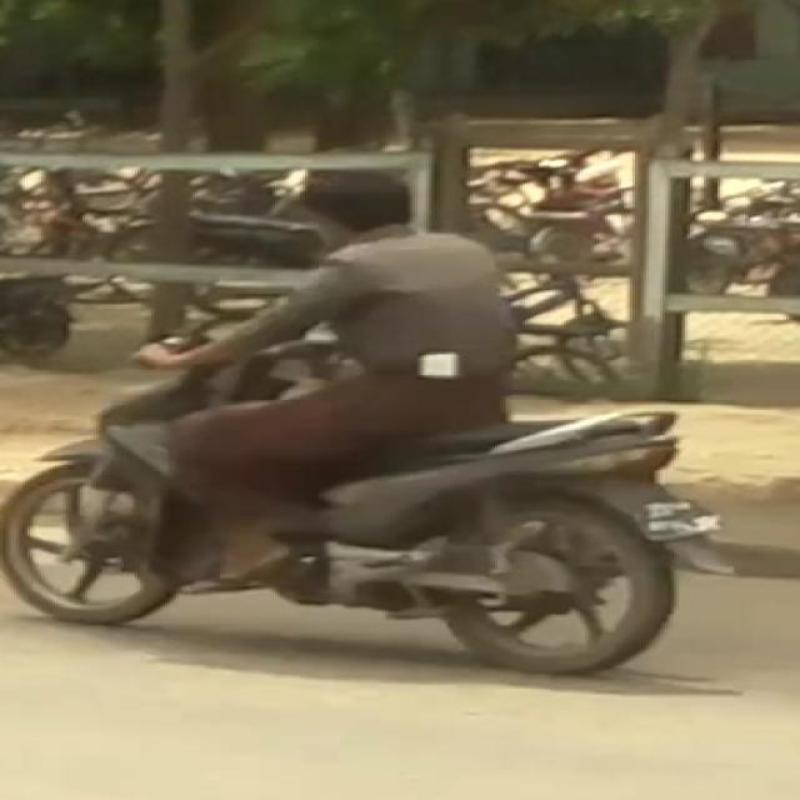nohelmet: (292, 158, 427, 248)
